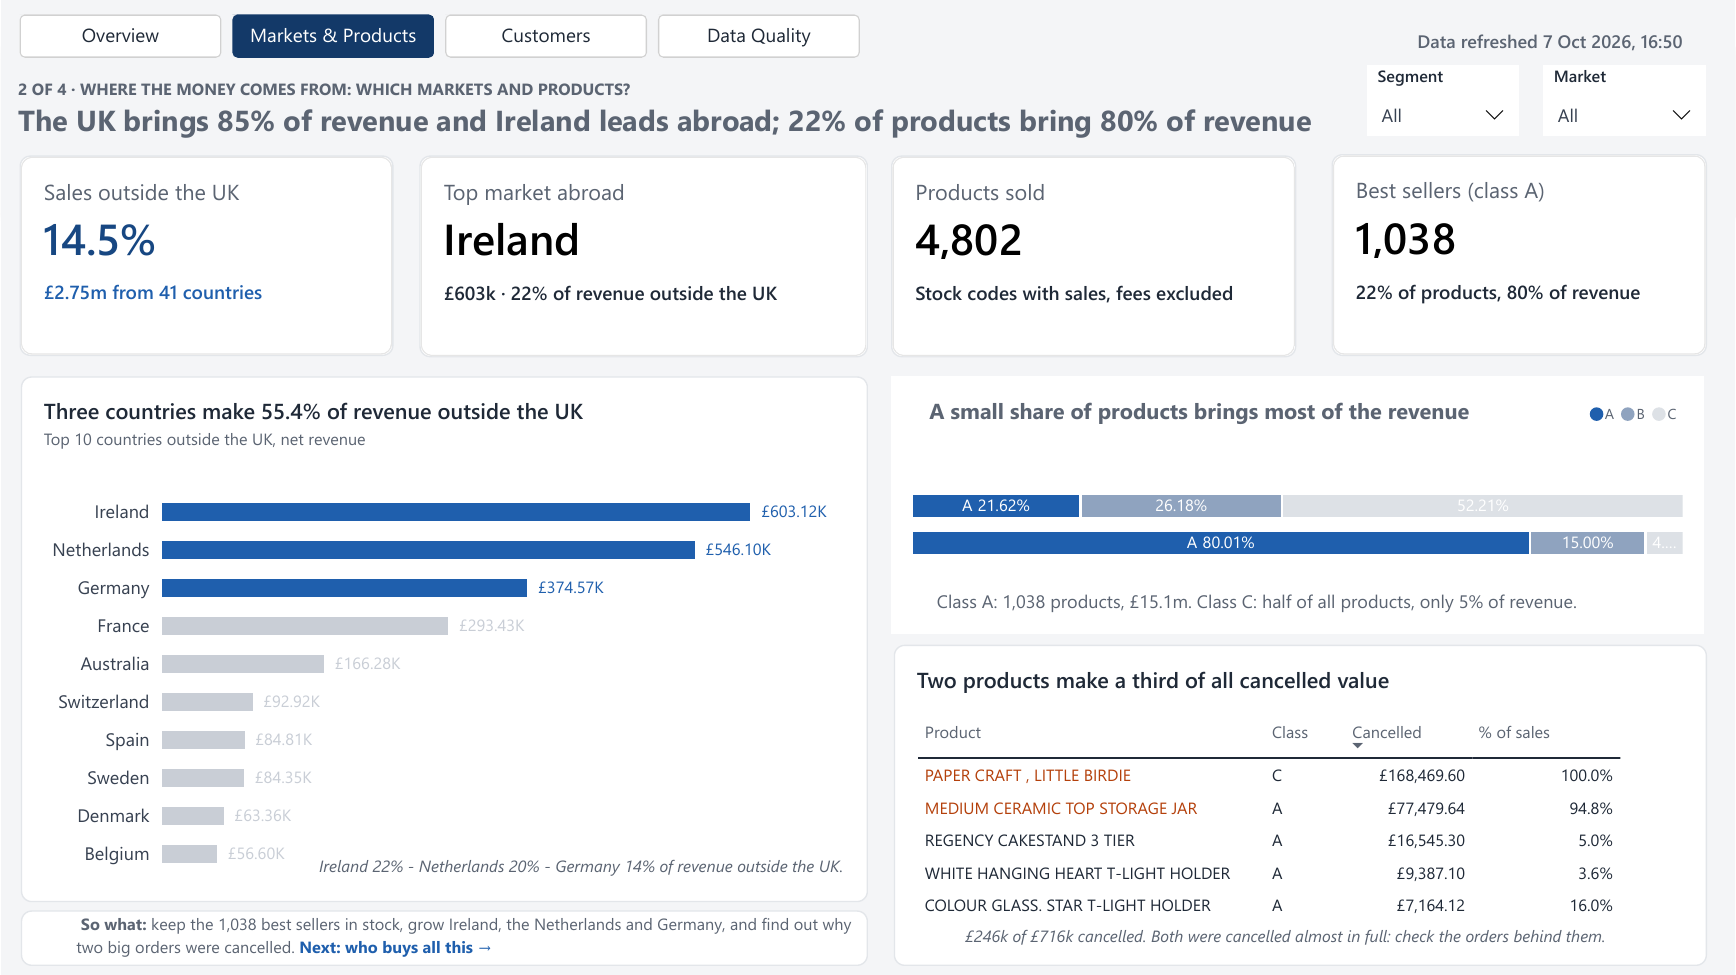

This screenshot's page, from the dashboard's own definition file:
{"tool":"powerbi","page":{"name":"Markets & Products","canvas":[1280,720],"ordinal":1},"visuals":[{"type":"pageNavigator","box":[14,11,620,32],"z":0},{"type":"group","id":"g1","title":"Group 1","box":[657.3,277.5,600,189.9],"z":0,"group":"g2"},{"type":"cardVisual","fields":{"Data":["_Measures (2).Last Refreshed Label"]},"box":[1025,6,232,37],"z":1000},{"type":"textbox","box":[678.6,434.8,497.8,32.6],"z":1000,"group":"g2"},{"type":"textbox","box":[13,57,969,62],"z":2000},{"type":"slicer","fields":{"Values":["Customer.Segment"]},"box":[1008,48,112,53],"z":3000},{"type":"slicer","fields":{"Values":["Country.Market"]},"box":[1138,48,120,53],"z":4000},{"type":"cardVisual","fields":{"Data":["_Measures (2).International Share %"]},"box":[13.9,115.4,275.7,147.4],"z":5000},{"type":"cardVisual","fields":{"Data":["_Measures (2).Top Market Abroad"]},"box":[308.8,115.4,331.2,148.5],"z":6000},{"type":"cardVisual","fields":{"Data":["_Measures (2).Products Sold Display"]},"box":[657.1,115.4,299.2,148.5],"z":7000},{"type":"cardVisual","fields":{"Data":["_Measures (2).Class A Products Display"]},"box":[981.9,114.3,276.7,148.5],"z":8000},{"type":"clusteredBarChart","title":"Three countries make 55.4% of revenue outside the UK","fields":{"Category":["Country.Country Display"],"Y":["_Measures (2).Net Revenue"]},"box":[14.6,277.5,625.8,388.8],"z":9000},{"type":"textbox","box":[235.4,630.3,405.1,36.4],"z":10000},{"type":"hundredPercentStackedBarChart","fields":{"Series":["Product.ABC Class"],"Y":["_Measures (2).Product Count Share %"]},"box":[657.3,277.5,599.9,161.3],"z":11000,"group":"g1"},{"type":"group","id":"g2","title":"Group 2","box":[657.3,277.5,600,189.9],"z":11000},{"type":"hundredPercentStackedBarChart","fields":{"Series":["Product.ABC Class"],"Y":["_Measures (2).Revenue Share by Class %"]},"box":[657.3,330.9,600,136.5],"z":12000,"group":"g1"},{"type":"tableEx","title":"Two products make a third of all cancelled value","fields":{"Values":["Product.Product","Product.ABC Class","_Measures (2).Cancelled Value","_Measures (2).Cancellation Rate"]},"box":[658.5,475.5,600,237.2],"z":12000},{"type":"textbox","box":[669.6,292.8,430.7,22.9],"z":13000,"group":"g1"},{"type":"textbox","box":[669.1,681.9,557.4,21.3],"z":13000},{"type":"textbox","box":[14.9,672.3,625.5,40.4],"z":14000}]}

Visuals, with their boxes in screenshot pixels (x1, y1, x2, y2), scaled from the page's 1280x720 canvas onto the 1736x975 screenshot:
pageNavigator: bbox=(19, 15, 860, 58)
"Group 1" group: bbox=(891, 376, 1705, 633)
cardVisual - _Measures (2).Last Refreshed Label: bbox=(1390, 8, 1705, 58)
textbox: bbox=(920, 589, 1595, 633)
textbox: bbox=(18, 77, 1332, 161)
slicer - Customer.Segment: bbox=(1367, 65, 1519, 137)
slicer - Country.Market: bbox=(1543, 65, 1706, 137)
cardVisual - _Measures (2).International Share %: bbox=(19, 156, 393, 356)
cardVisual - _Measures (2).Top Market Abroad: bbox=(419, 156, 868, 357)
cardVisual - _Measures (2).Products Sold Display: bbox=(891, 156, 1297, 357)
cardVisual - _Measures (2).Class A Products Display: bbox=(1332, 155, 1707, 356)
"Three countries make 55.4% of revenue outside the UK" clusteredBarChart: bbox=(20, 376, 869, 902)
textbox: bbox=(319, 854, 869, 903)
hundredPercentStackedBarChart - Product.ABC Class x _Measures (2).Product Count Share %: bbox=(891, 376, 1705, 594)
"Group 2" group: bbox=(891, 376, 1705, 633)
hundredPercentStackedBarChart - Product.ABC Class x _Measures (2).Revenue Share by Class %: bbox=(891, 448, 1705, 633)
"Two products make a third of all cancelled value" tableEx: bbox=(893, 644, 1707, 965)
textbox: bbox=(908, 397, 1492, 428)
textbox: bbox=(907, 923, 1663, 952)
textbox: bbox=(20, 910, 869, 965)
